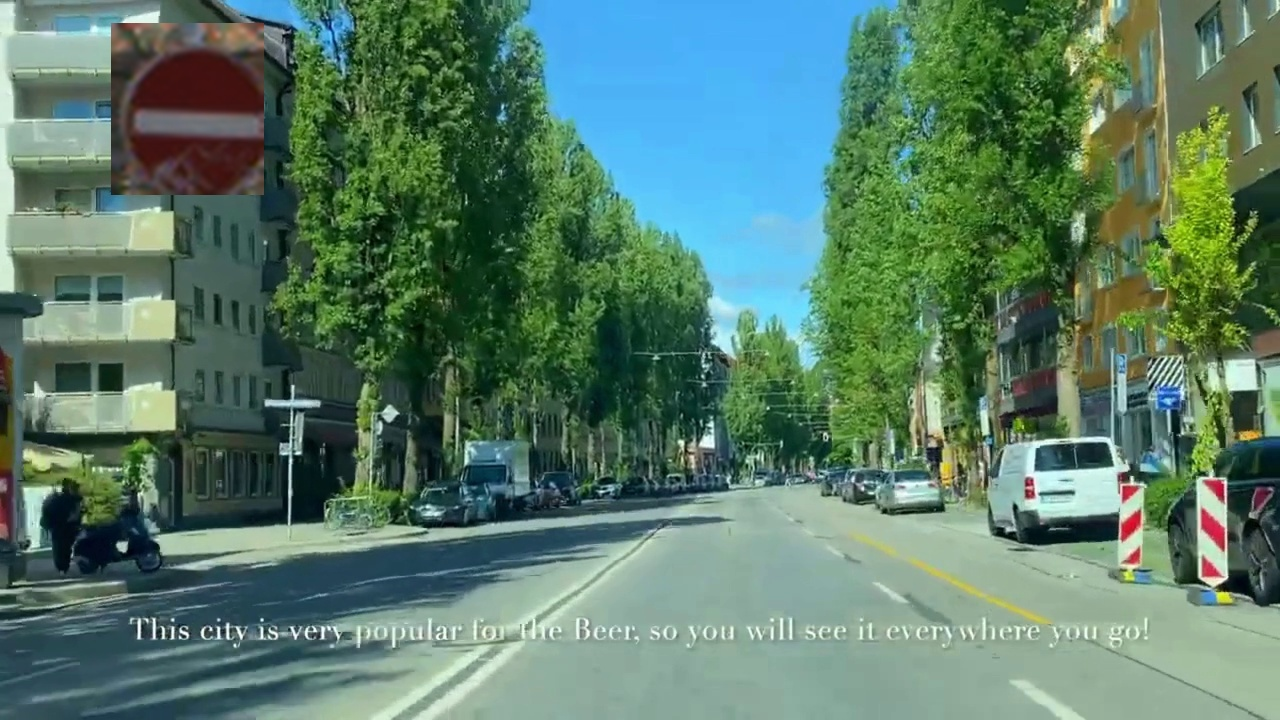No entry: (111, 23, 264, 195)
